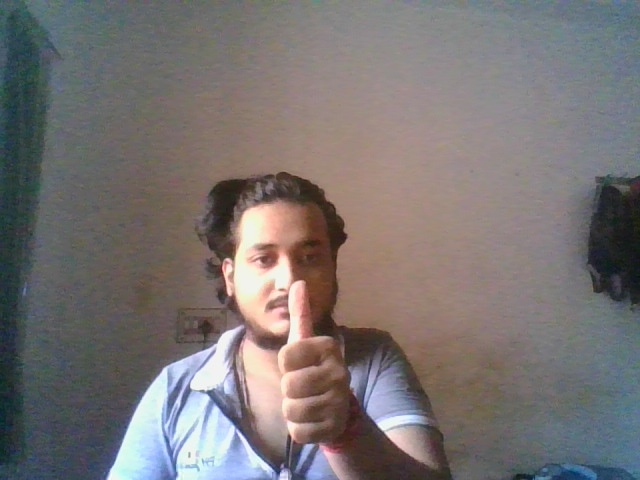ThumbsUp: (277, 277, 350, 448)
